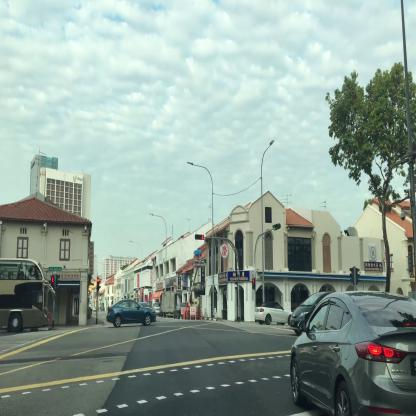red_traffic_light: (195, 235, 203, 239), (97, 278, 99, 291)
